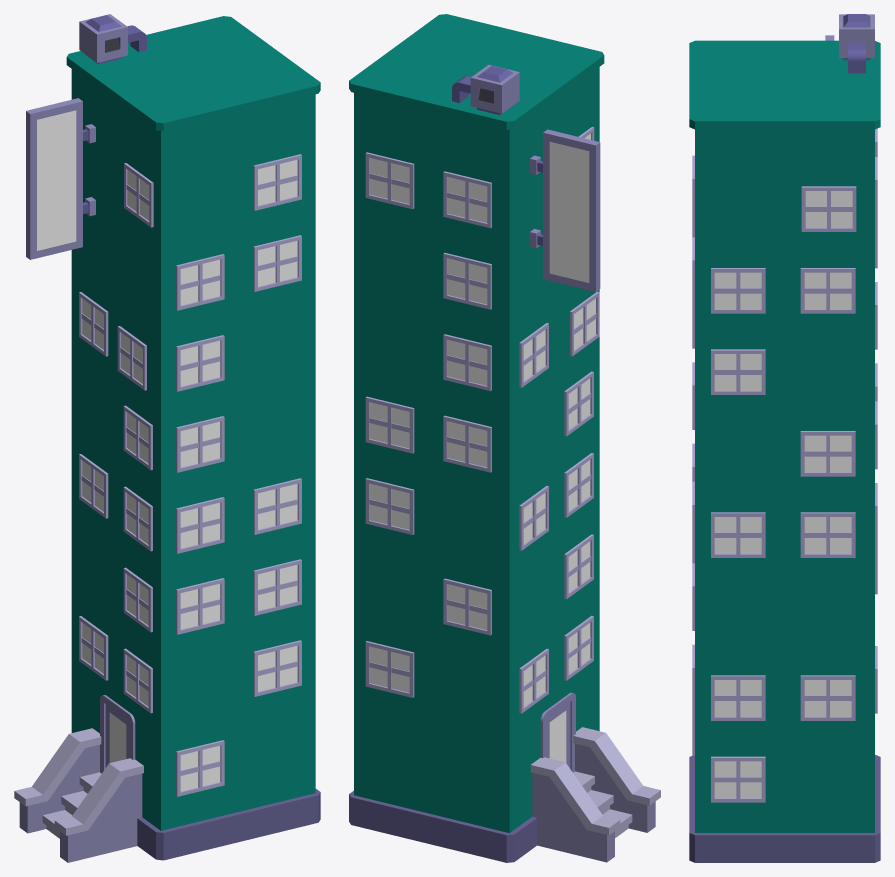
Rendered from Big_house.fbx.
3 renders of one model, left to right at view 1: azimuth 30°, elevation 25°; view 2: azimuth 150°, elevation 25°; view 3: azimuth 270°, elevation 25°, orthographic.
Visible parts, largest first — view 1: mergedBlocks; view 2: mergedBlocks; view 3: mergedBlocks.
Part boxes in pixels (bbox=[...]): mergedBlocks: bbox=[14, 14, 320, 862]; mergedBlocks: bbox=[349, 14, 660, 862]; mergedBlocks: bbox=[689, 14, 880, 862].
Size of the model in its own units: 30.7 by 95.5 by 21.25.
